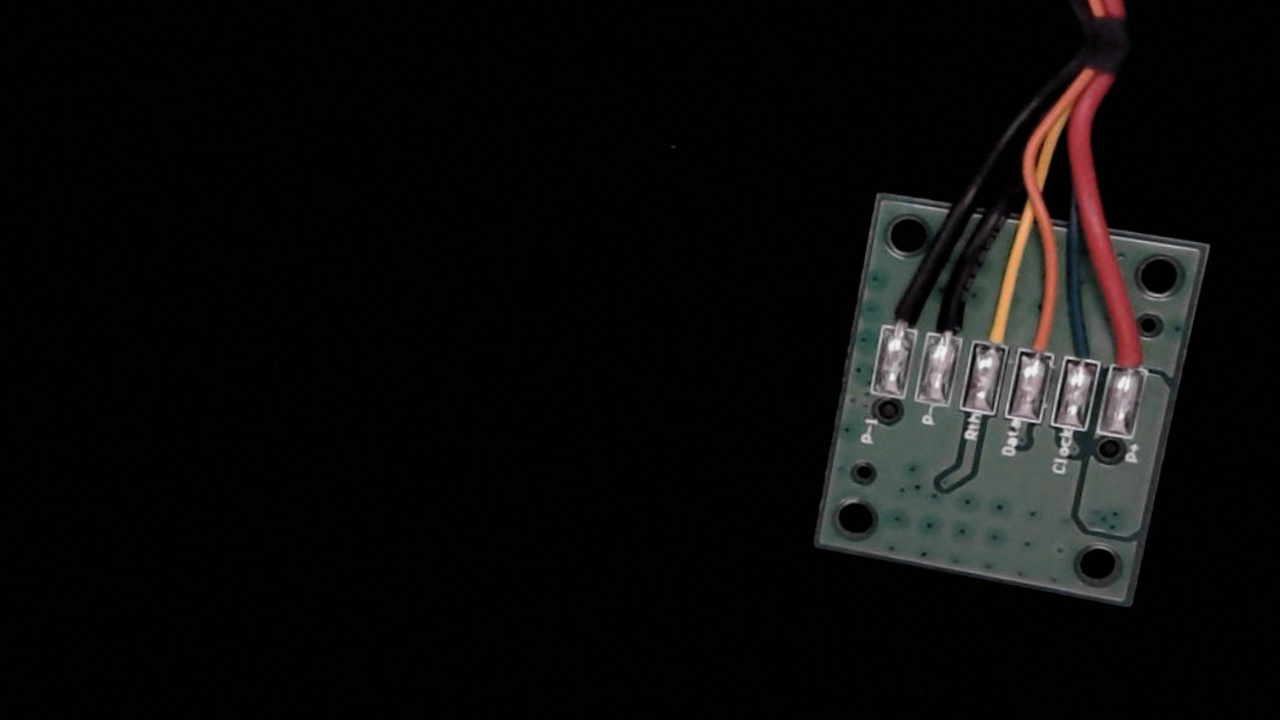Black: (926, 279, 974, 357)
Black1: (875, 272, 926, 352)
Green: (1061, 312, 1109, 386)
Orange: (1016, 291, 1067, 376)
Red: (1107, 323, 1156, 393)
Yellow: (968, 280, 1022, 368)
